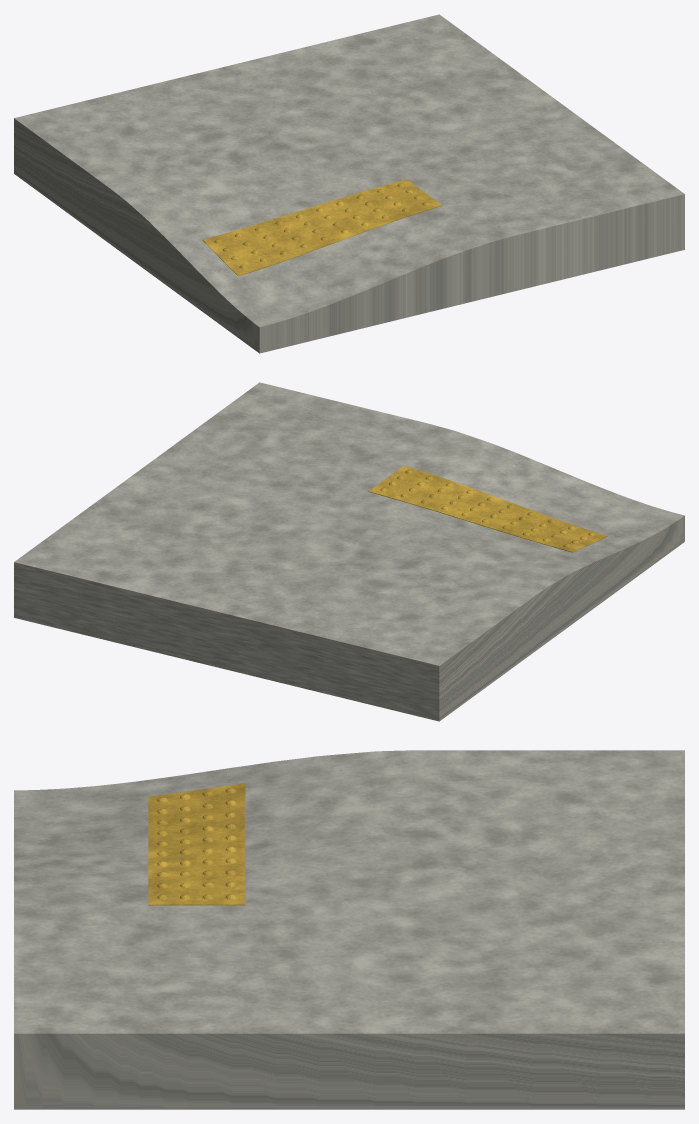
Rendered from PZ_Ramp_Corner_Left_2x2.glb.
3 views of the same model, one above another, from view 1: azimuth 30°, elevation 25°; view 2: azimuth 150°, elevation 25°; view 3: azimuth 270°, elevation 25° (orthographic). The views are drawn at different scales.
Visible parts, largest first — view 1: PZ_Ramp_Corner_Left_2x2__Monolithic_Ramp_2x2, PZ_Ramp_Corner_Left_2x2__Tactile_Warning_Base, PZ_Ramp_Corner_Left_2x2__Tactile_Domes; view 2: PZ_Ramp_Corner_Left_2x2__Monolithic_Ramp_2x2, PZ_Ramp_Corner_Left_2x2__Tactile_Warning_Base, PZ_Ramp_Corner_Left_2x2__Tactile_Domes; view 3: PZ_Ramp_Corner_Left_2x2__Monolithic_Ramp_2x2, PZ_Ramp_Corner_Left_2x2__Tactile_Warning_Base, PZ_Ramp_Corner_Left_2x2__Tactile_Domes.
Boxes of the visible parts, <box> form: PZ_Ramp_Corner_Left_2x2__Monolithic_Ramp_2x2: <box>14,14,684,353</box>; PZ_Ramp_Corner_Left_2x2__Tactile_Warning_Base: <box>202,179,442,275</box>; PZ_Ramp_Corner_Left_2x2__Tactile_Domes: <box>214,183,430,268</box>; PZ_Ramp_Corner_Left_2x2__Monolithic_Ramp_2x2: <box>14,382,684,721</box>; PZ_Ramp_Corner_Left_2x2__Tactile_Warning_Base: <box>368,465,607,552</box>; PZ_Ramp_Corner_Left_2x2__Tactile_Domes: <box>380,469,596,547</box>; PZ_Ramp_Corner_Left_2x2__Monolithic_Ramp_2x2: <box>14,750,684,1109</box>; PZ_Ramp_Corner_Left_2x2__Tactile_Warning_Base: <box>148,783,245,905</box>; PZ_Ramp_Corner_Left_2x2__Tactile_Domes: <box>157,788,236,900</box>.
Bounding box in the file's own units: 2 × 0.2602 × 2.
2 materials, 2 textured.
